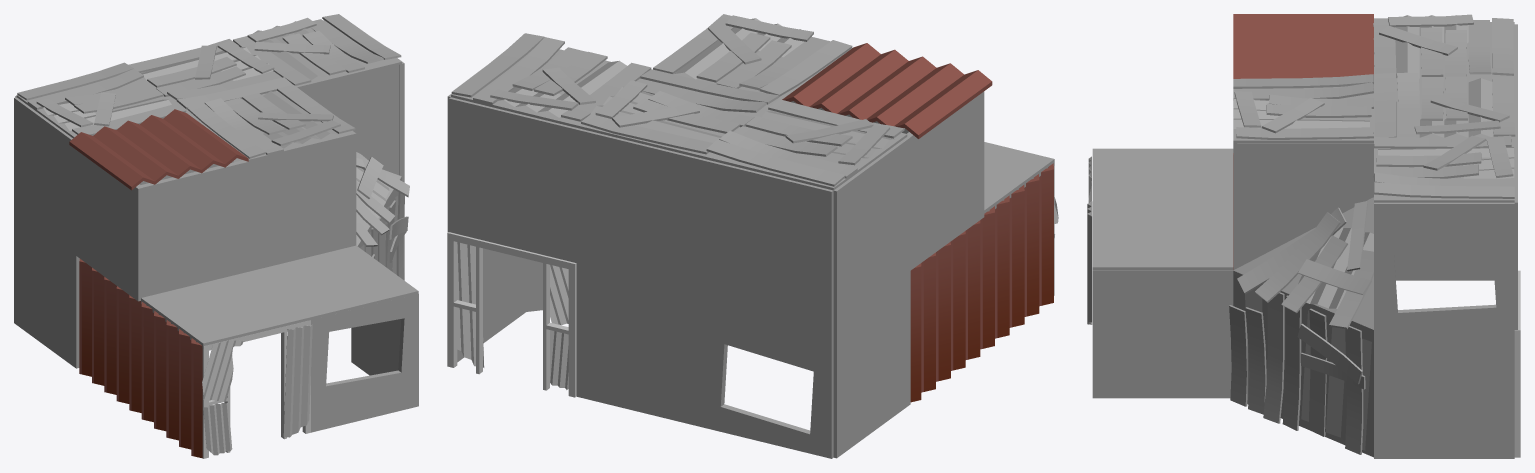
File: Environment_OpenHouse_01.fbx
3 views of the same model, side by side, from view 1: azimuth 30°, elevation 25°; view 2: azimuth 150°, elevation 25°; view 3: azimuth 270°, elevation 25° (orthographic). The views are drawn at different scales.
Parts seen in each view (by area): view 1: Environment_Wall_01, Environment_Wall_02, pCube3, Environment_RifledRoofSide_02, Environment_Wall_015, Environment_WoodenShackRoof_02, Environment_Wall_011, Environment_WoodenShackRoof_05, Environment_Wall_017, Environment_RifledWall_01, Environment_Wall_08, Environment_RifledWall_02 (+9 smaller); view 2: Environment_Wall_012, Environment_Wall_018, Environment_Wall_014, Environment_Wall_013, pCube4, Environment_RifledRoofSide_02, Environment_Wall_017, Environment_WoodenShackRoof_03, Environment_Wall_015, Environment_WoodenShackRoof_05, Environment_RifledWall_01, Environment_WoodenShackRoof_04 (+7 smaller); view 3: Environment_Wall_06, Environment_Wall_05, Environment_WoodenShackCorner_03, pCube2, Environment_Wall_04, Environment_WoodenShackCornerRoof_01, Environment_WoodenShackRoof_05, Environment_WoodenShackRoof_02, Environment_RifledRoofSide_02, Environment_Wall_07, Environment_WoodenShackRoof_04, Environment_Wall_08 (+6 smaller).
Boxes of the visible parts, x1,y1,x2,y2 form: Environment_Wall_01: (248,136,356,271); Environment_Wall_02: (139,160,248,297); pCube3: (311,294,418,432); Environment_RifledRoofSide_02: (69,109,248,190); Environment_Wall_015: (14,210,79,368); Environment_WoodenShackRoof_02: (187,84,356,161); Environment_Wall_011: (76,150,143,301); Environment_WoodenShackRoof_05: (233,14,401,88); Environment_Wall_017: (14,97,76,255); Environment_RifledWall_01: (141,302,202,458); Environment_Wall_08: (141,272,310,348); Environment_RifledWall_02: (79,258,141,412); Environment_Wall_012: (704,159,833,325); Environment_Wall_018: (576,128,705,293); Environment_Wall_014: (449,97,577,262); Environment_Wall_013: (576,263,704,427); pCube4: (704,294,833,458); Environment_RifledRoofSide_02: (782,43,992,138); Environment_Wall_017: (833,136,910,324); Environment_WoodenShackRoof_03: (706,99,907,190); Environment_Wall_015: (833,271,910,458); Environment_WoodenShackRoof_05: (451,33,651,127); Environment_RifledWall_01: (980,163,1053,349); Environment_WoodenShackRoof_04: (578,69,779,159); Environment_Wall_06: (1374,331,1514,458); Environment_Wall_05: (1092,270,1233,398); Environment_WoodenShackCorner_03: (1229,270,1373,457); pCube2: (1374,202,1514,331); Environment_Wall_04: (1237,143,1373,267); Environment_WoodenShackCornerRoof_01: (1233,197,1373,329); Environment_WoodenShackRoof_05: (1373,135,1514,202); Environment_WoodenShackRoof_02: (1233,74,1373,142); Environment_RifledRoofSide_02: (1233,14,1373,78); Environment_Wall_07: (1092,208,1233,270); Environment_WoodenShackRoof_04: (1374,72,1515,140); Environment_Wall_08: (1092,148,1233,207).
Bounding box in the file's own units: 623 × 419 × 616.
